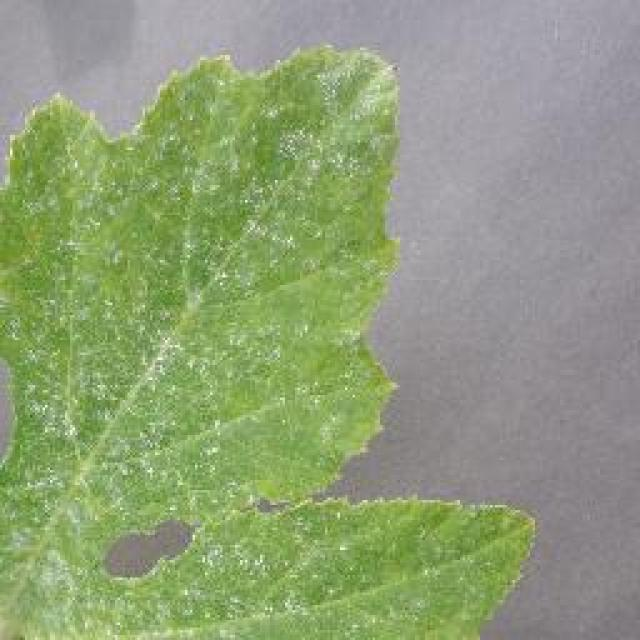Squ_Powdery_mildew: (5, 131, 314, 535)
